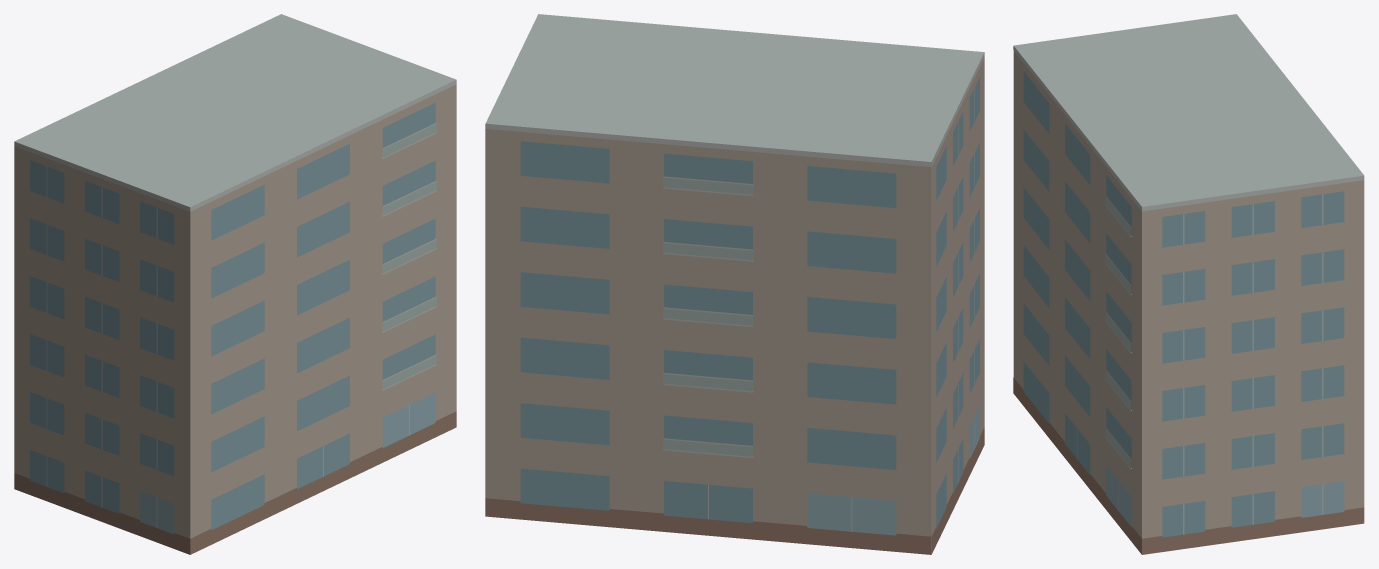
Rendered from survey-upis-32739895.glb.
3 renders of one model, left to right at view 1: azimuth 30°, elevation 25°; view 2: azimuth 150°, elevation 25°; view 3: azimuth 270°, elevation 25°, orthographic. The views are drawn at different scales.
Visible parts, largest first — view 1: survey-upis-32739895.tmp; view 2: survey-upis-32739895.tmp; view 3: survey-upis-32739895.tmp.
Boxes of the visible parts, x1,y1,x2,y2 form: survey-upis-32739895.tmp: (14, 14, 456, 554); survey-upis-32739895.tmp: (485, 14, 984, 554); survey-upis-32739895.tmp: (1013, 14, 1364, 554).
Size of the model in its own units: 22.14 by 18.6 by 17.01.
